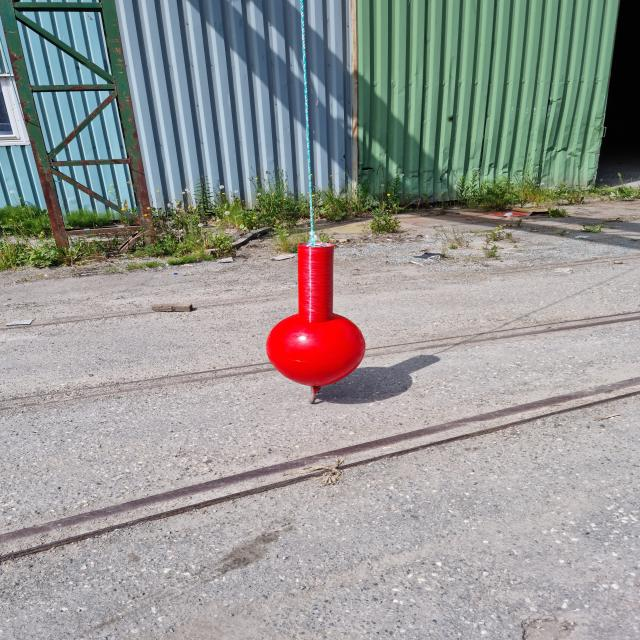red: (266, 245, 364, 386)
